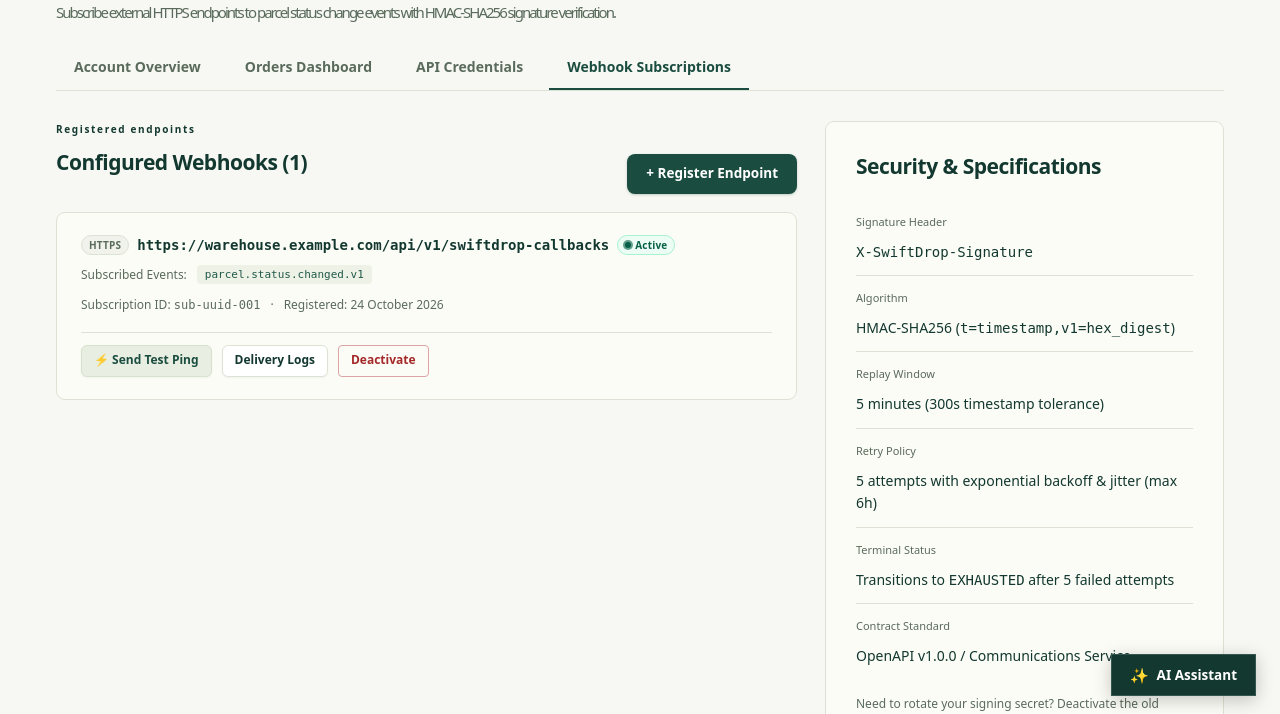
Test: Merchant Webhook Subscription UI (Issue #21) › opens delivery logs modal and displays attempt history
(page scrolled)
Click the button "Delivery Logs" at (275, 361), box 222,345 -> 328,377
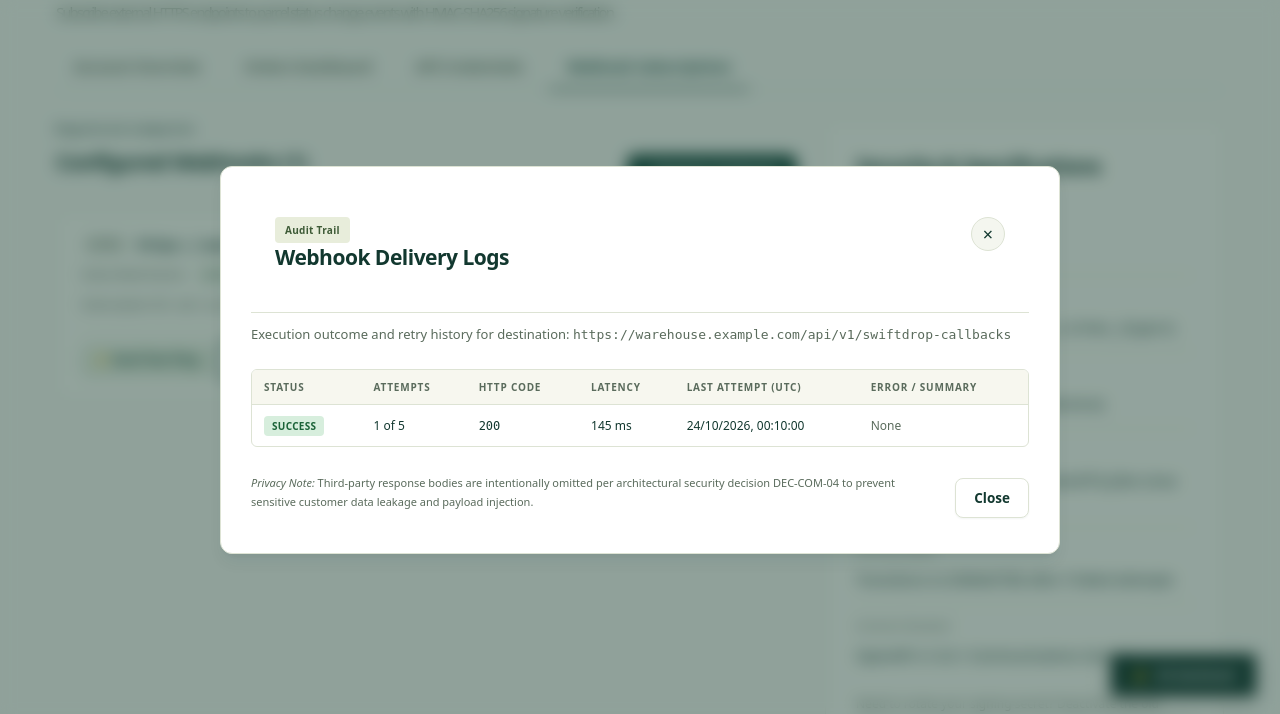
Now the dialog "Webhook Delivery Logs" is shown, box 220,166 -> 1060,554
Now the text "SUCCESS" is shown, box 264,416 -> 324,436
Now the text "145 ms" is shown, box 579,405 -> 675,446
# Close dialog
Click the button "Close" at (992, 498), box 955,478 -> 1029,518
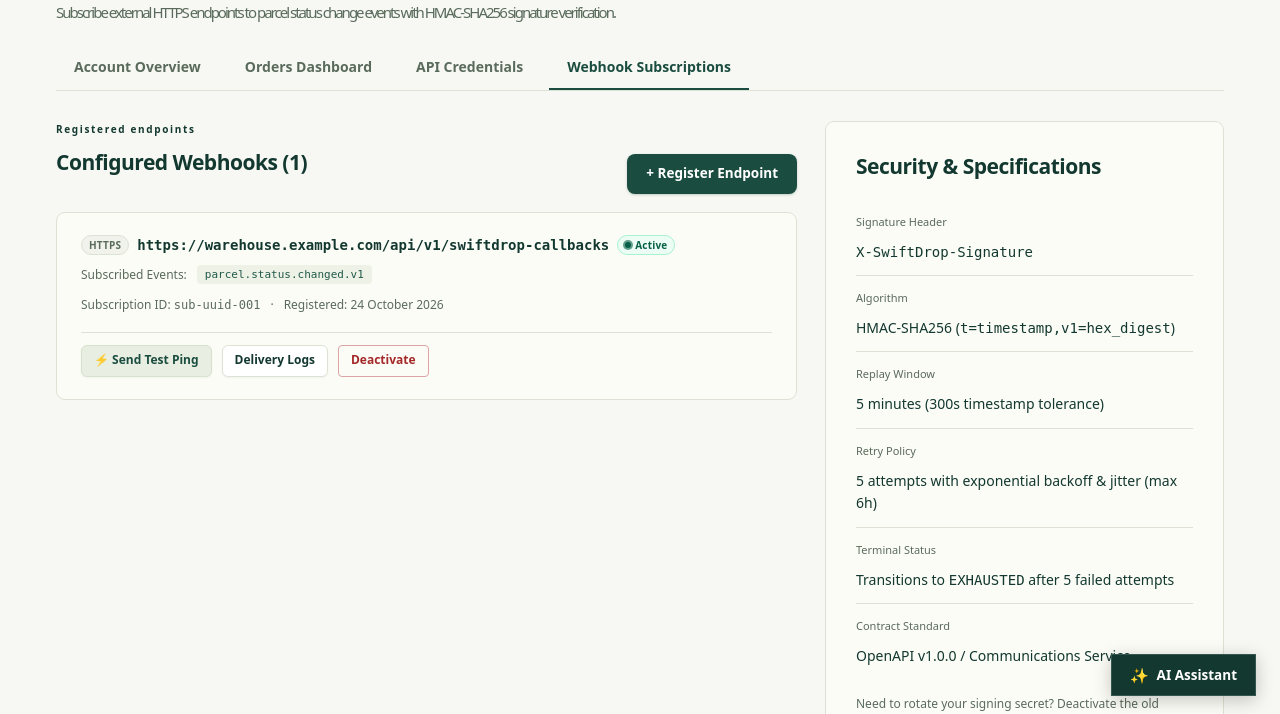
Now the dialog is gone
